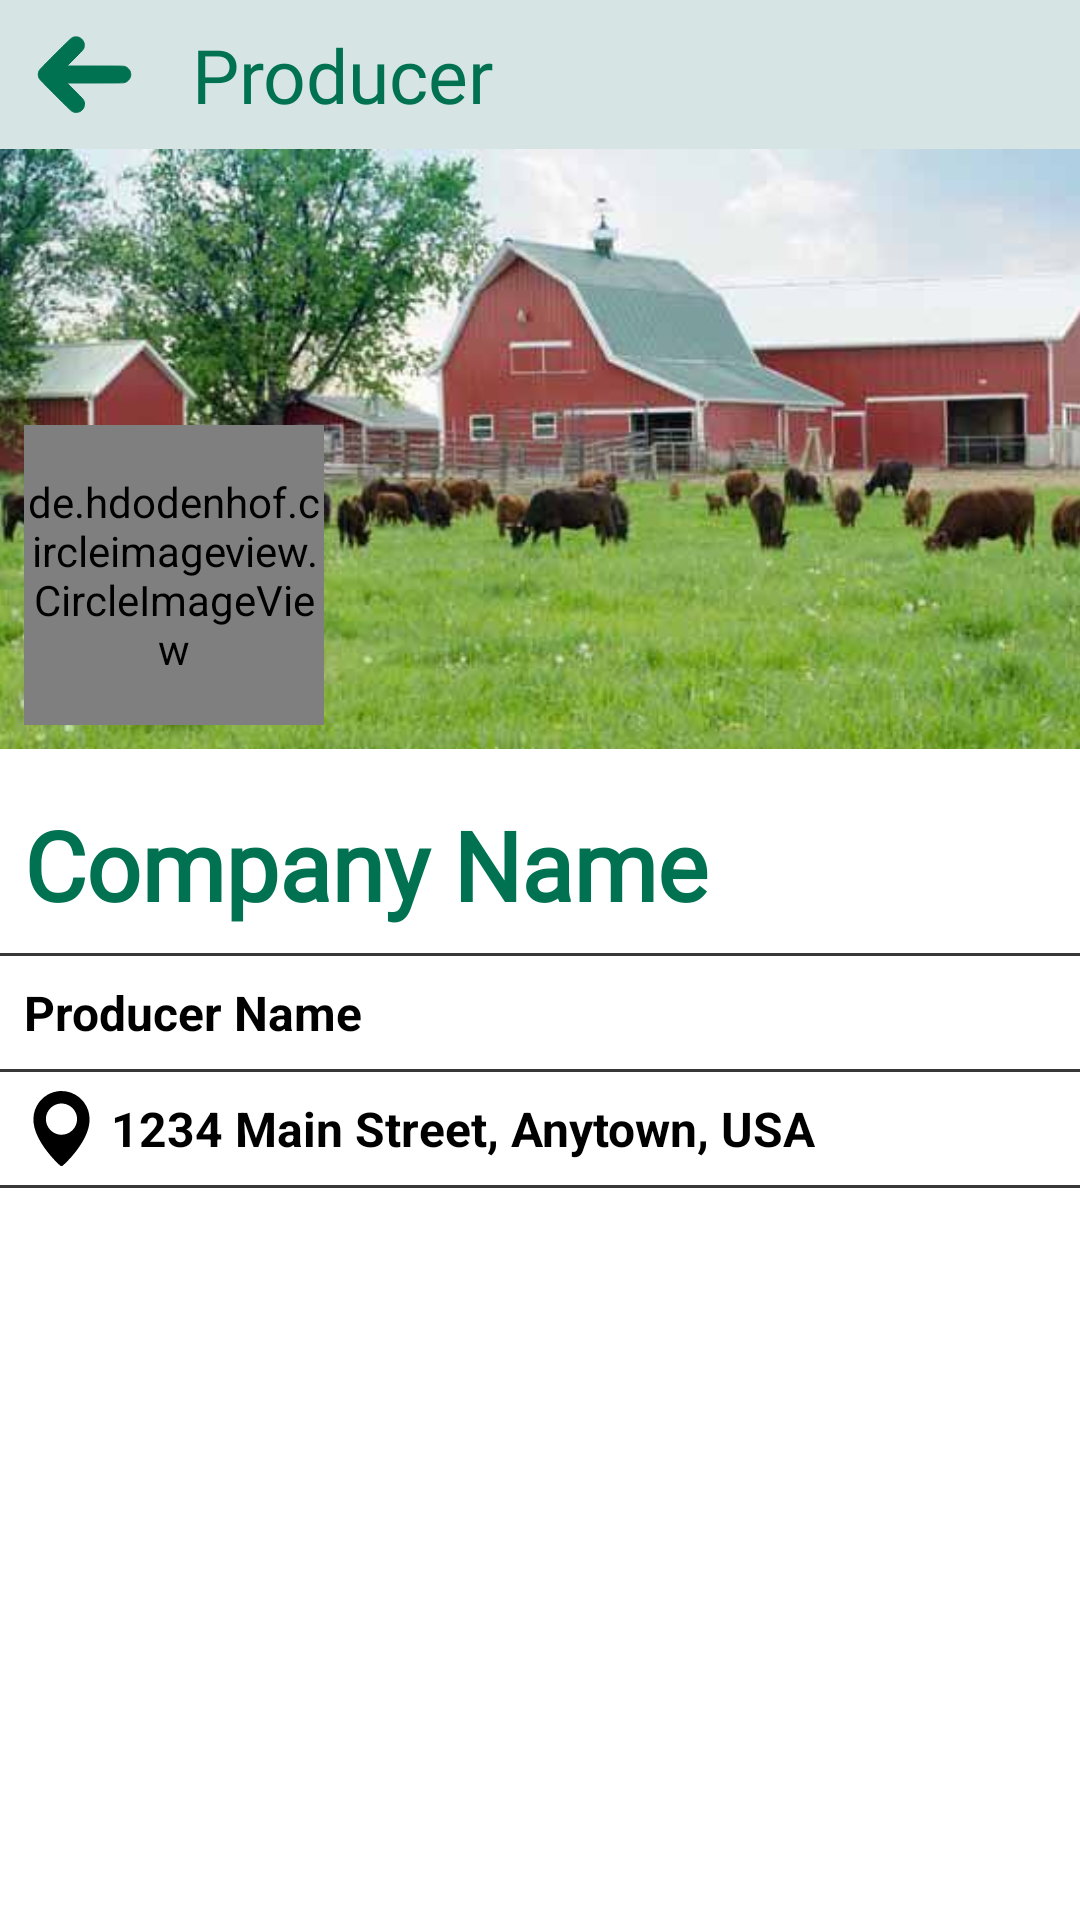

Screen size 1080*1920. Icon name, then its box in pixels as (x1, y1, x2, y2):
back: (37, 36, 132, 113)
location: (33, 1091, 90, 1166)
